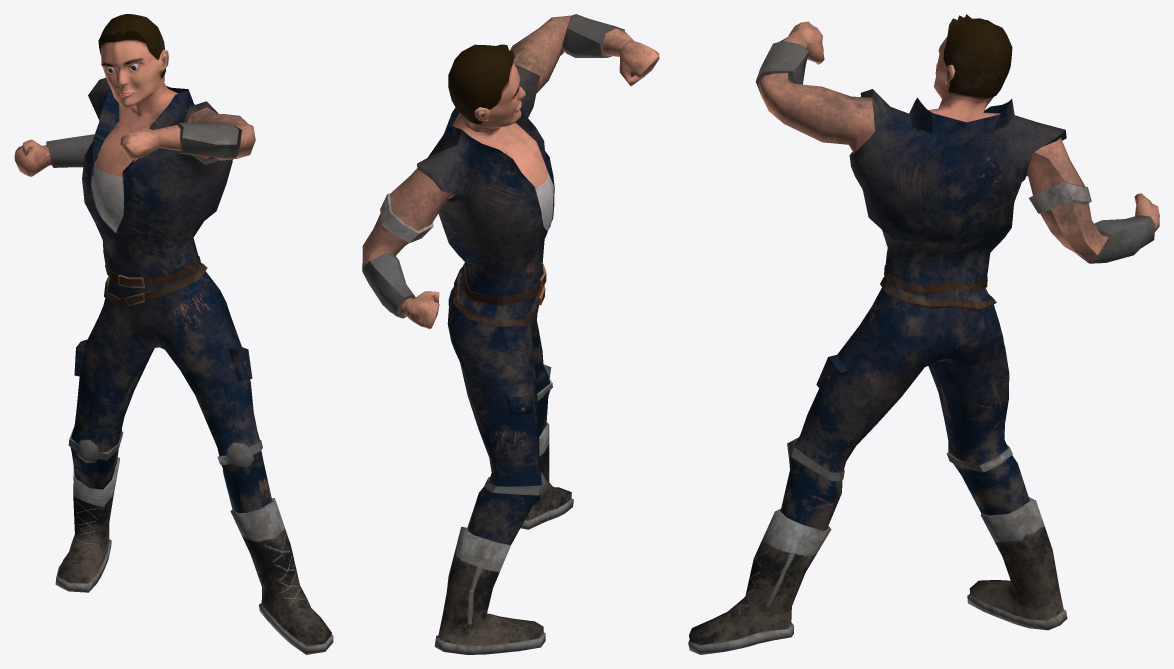
The model's file is Anim_especial_jugador.0021.obj.
The picture shows the model from 3 angles, left to right: view 1: azimuth 30°, elevation 25°; view 2: azimuth 150°, elevation 25°; view 3: azimuth 270°, elevation 25°; orthographic projection. The views are drawn at different scales.
Visible parts, largest first — view 1: polySurface1; view 2: polySurface1; view 3: polySurface1.
Part boxes in pixels (left/top/right/bottom): polySurface1: left=14, top=14, right=333, bottom=654; polySurface1: left=362, top=14, right=659, bottom=654; polySurface1: left=688, top=14, right=1159, bottom=654.
Bounding box in the file's own units: 2.87 × 9.37 × 6.61.
